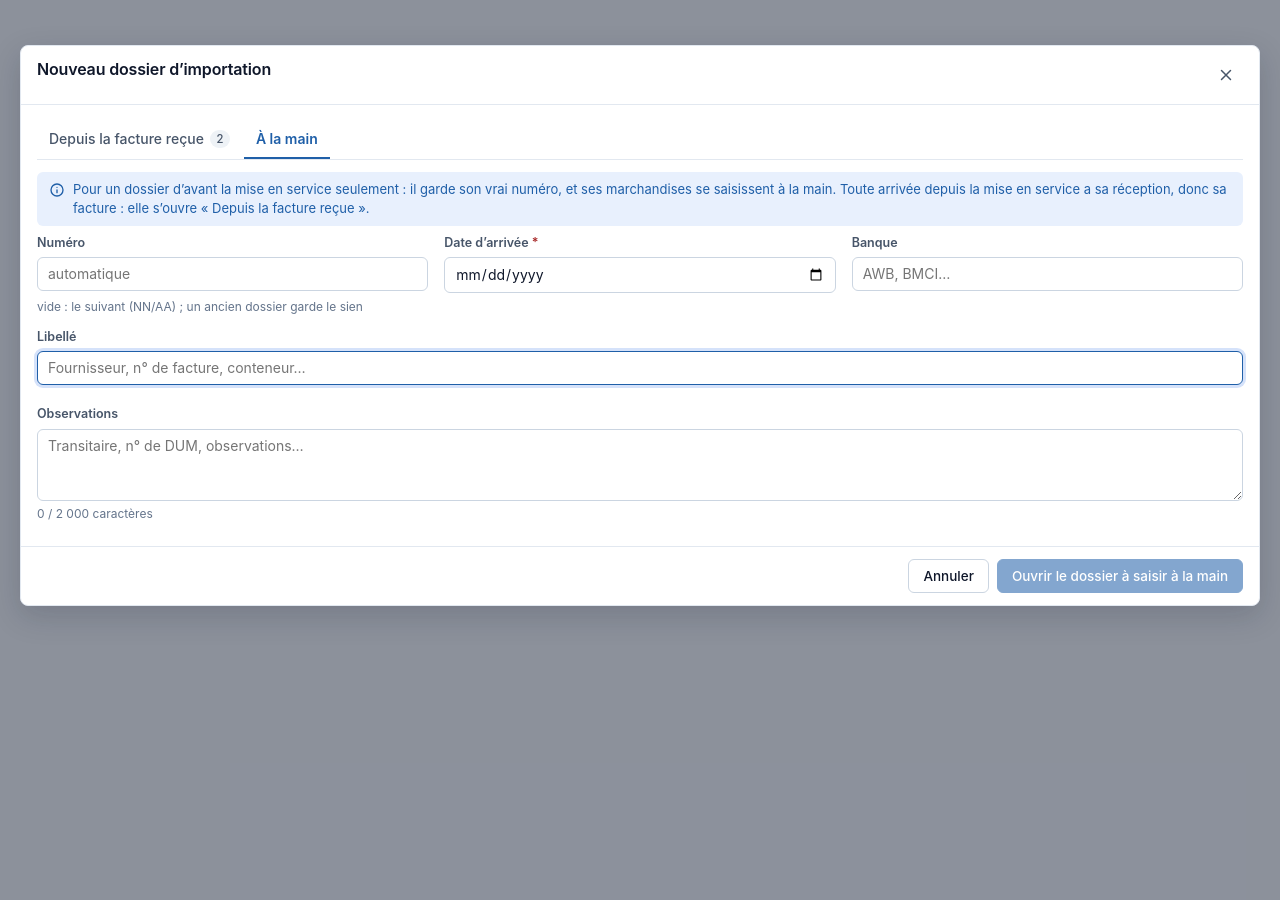
Test: Importations › en attente et nouveau dossier › à la main : la date d’arrivée manque, la saisie garde la fenêtre et survit aux onglets
Type "Ancien conteneur" into the field labelled "Libellé" at (640,368), box [37, 351, 1243, 385]
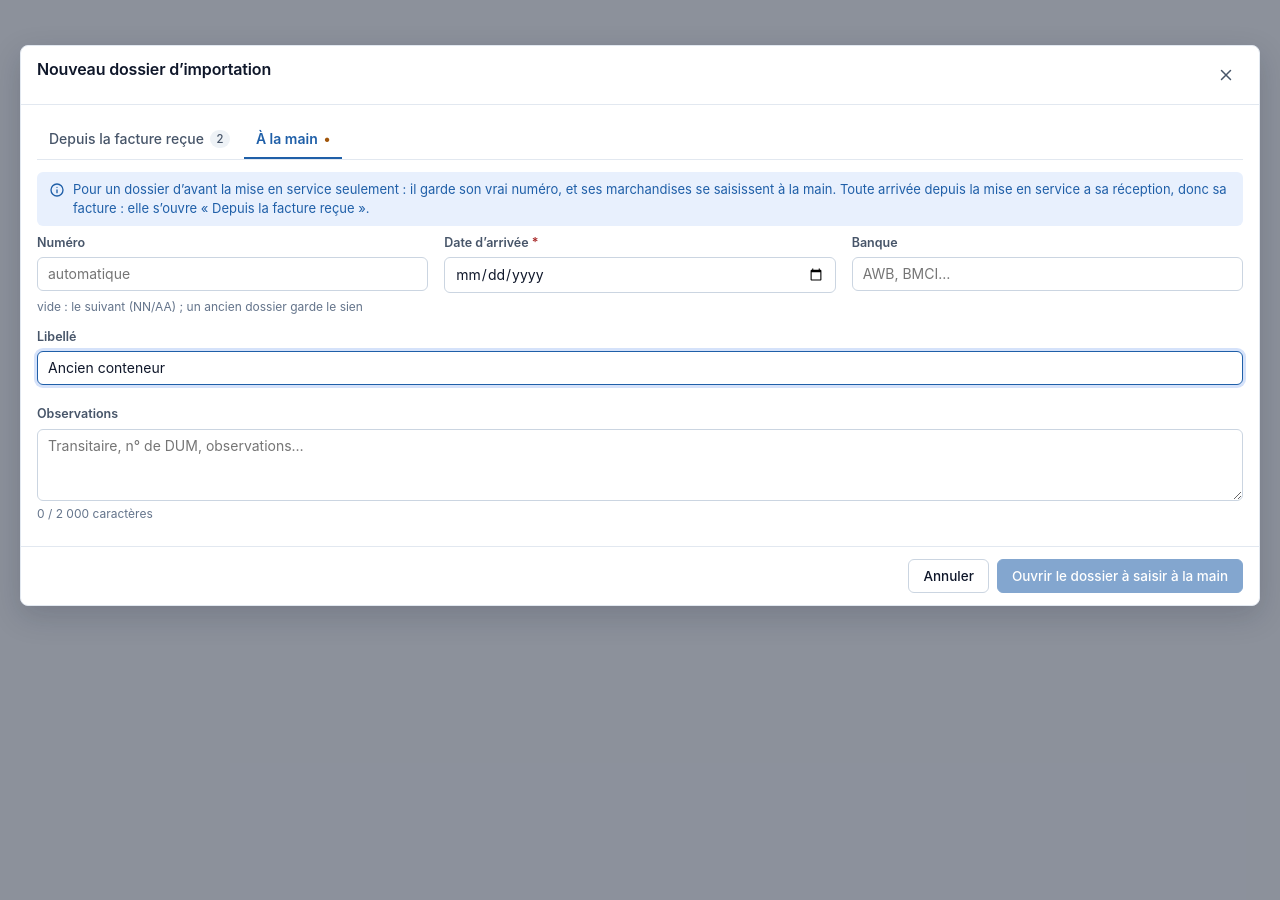
Click the tab "Depuis la facture reçue 2" at (139,140), box [37, 121, 242, 159]
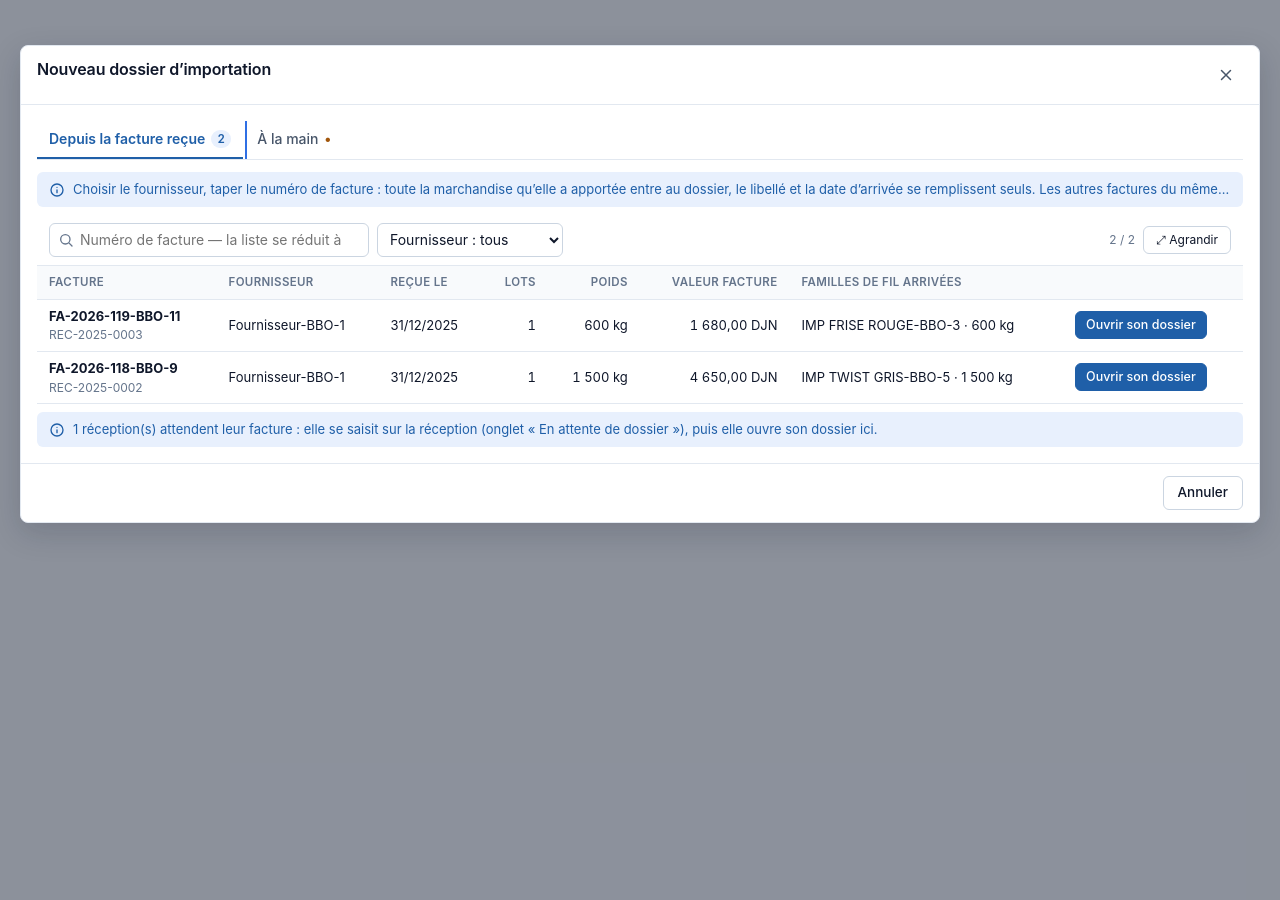
Click the tab "À la main •" at (294,140), box [245, 121, 343, 159]
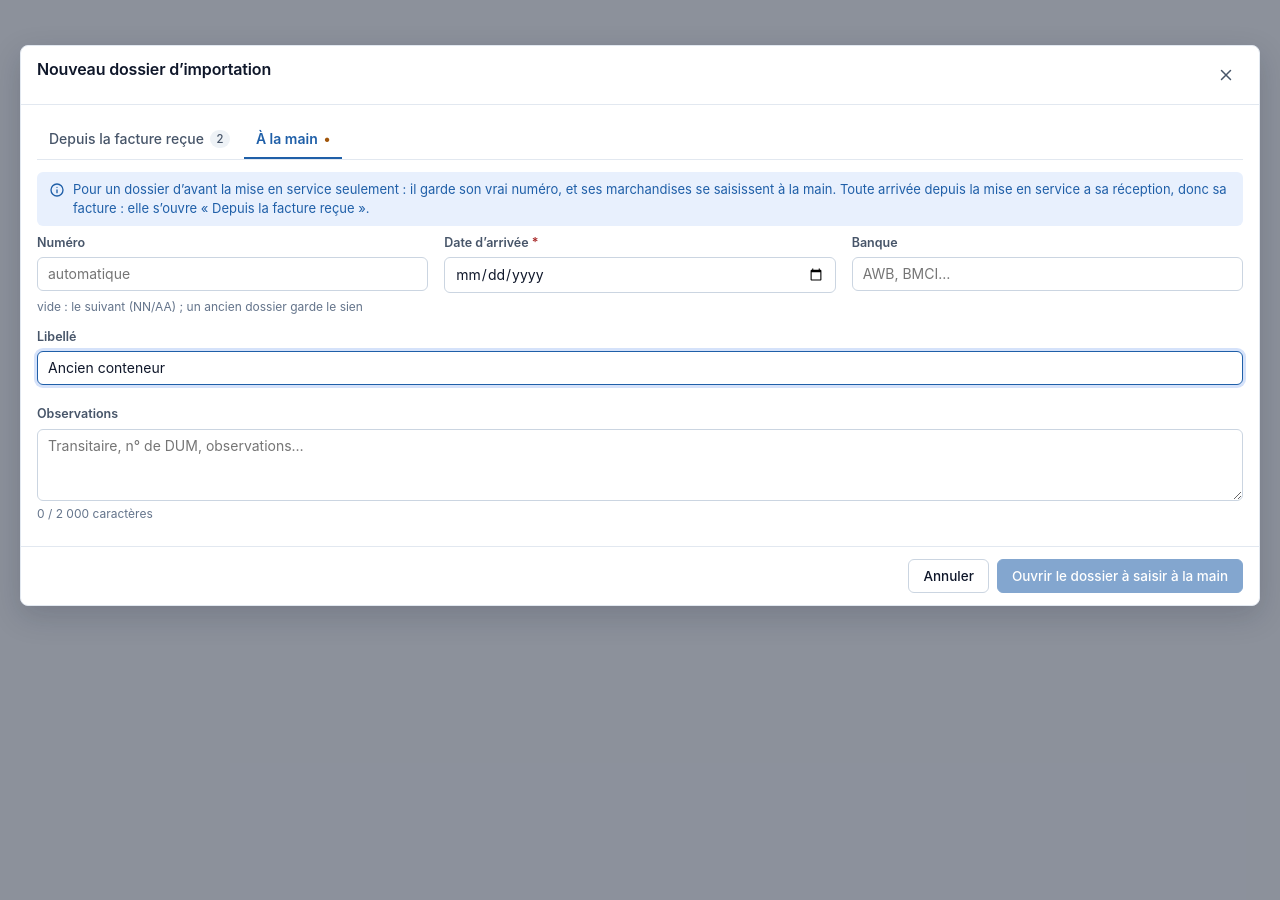
Now the field labelled "Libellé" holds "Ancien conteneur", box [37, 351, 1243, 385]
Press Escape
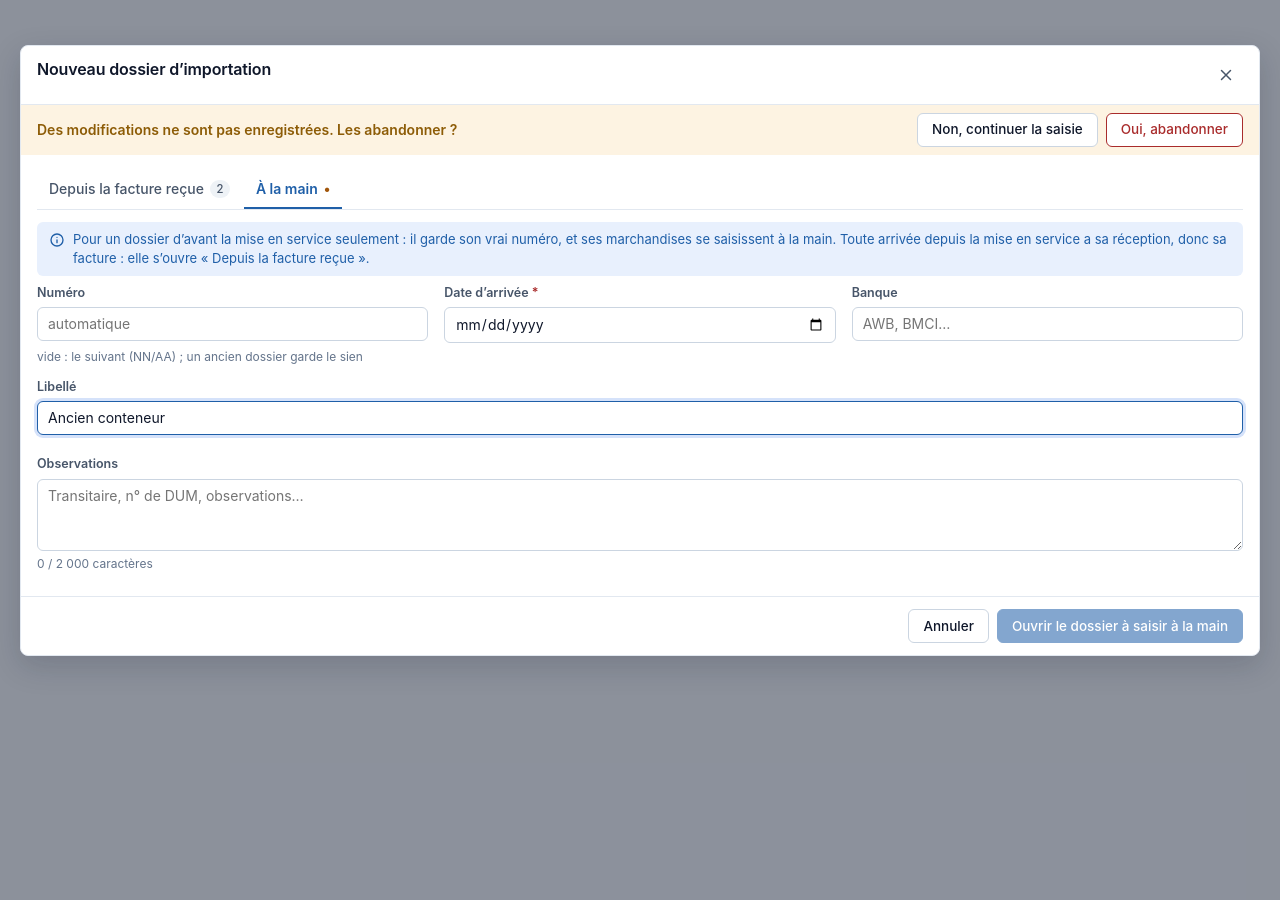
Now the text "Des modifications ne sont pas enregistrées. Les abandonner ?" is shown, box [37, 121, 457, 138]
